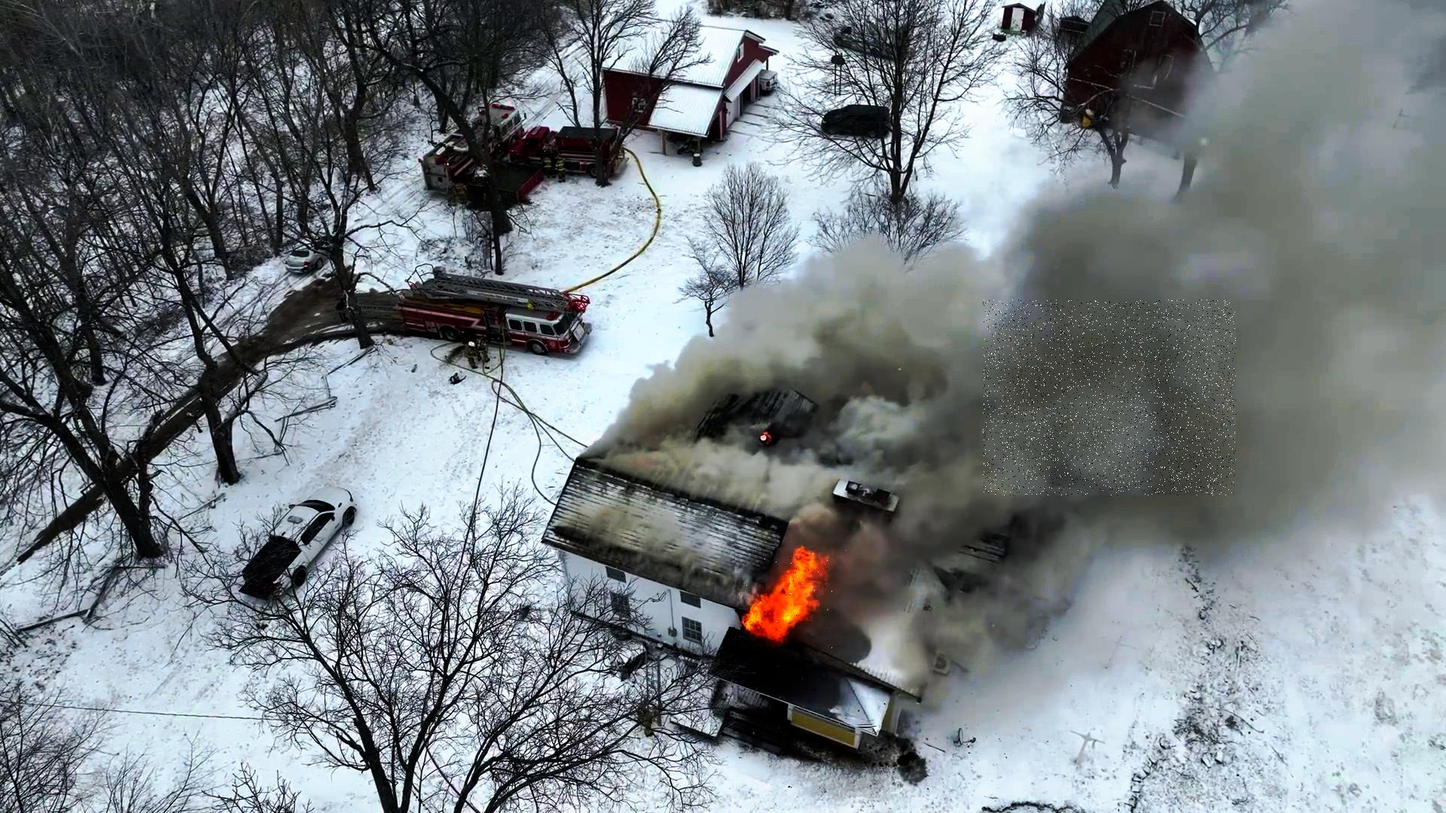fire: (736, 548, 833, 652)
smoke: (983, 300, 1236, 496)
